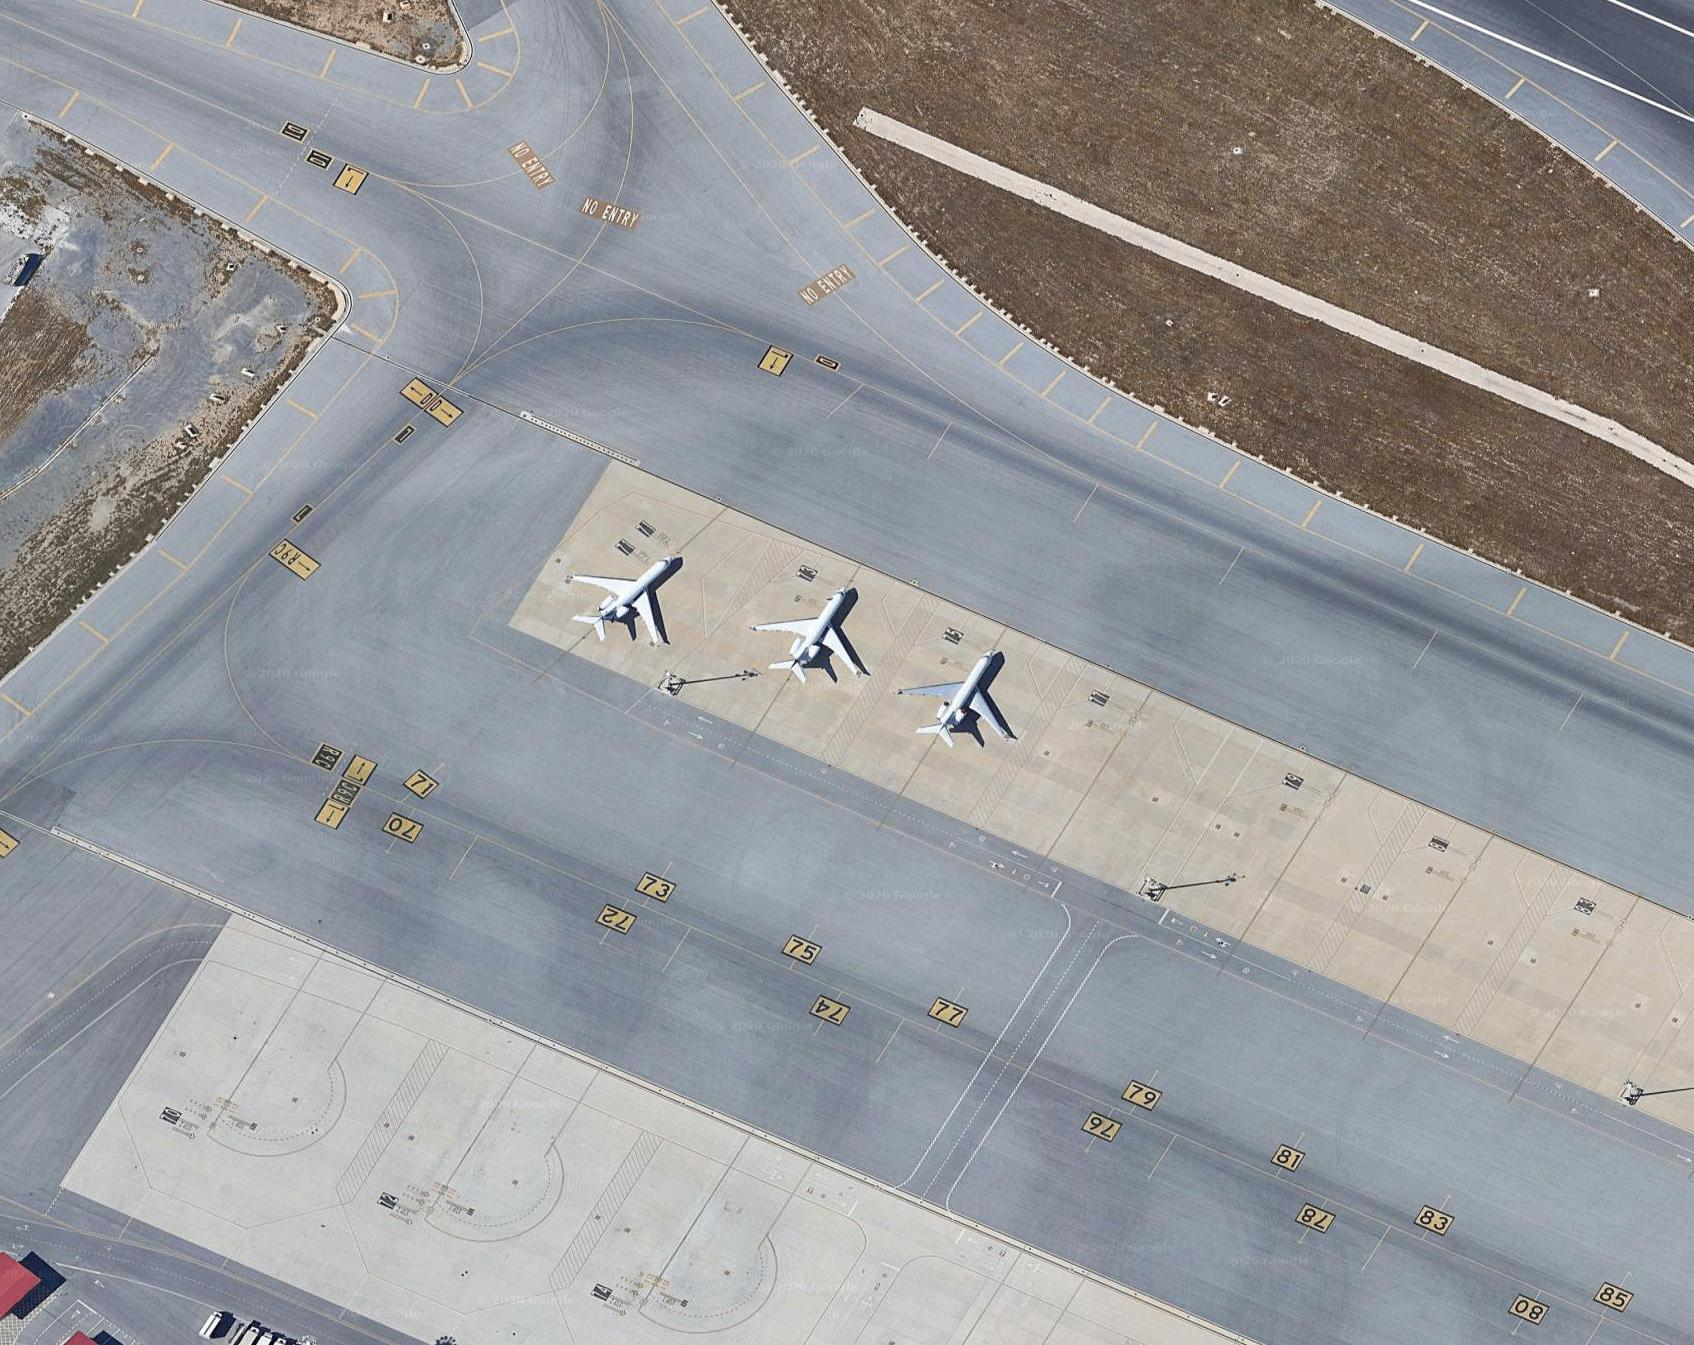plane: (544, 512, 716, 679), (736, 553, 898, 715), (883, 615, 1044, 777)
